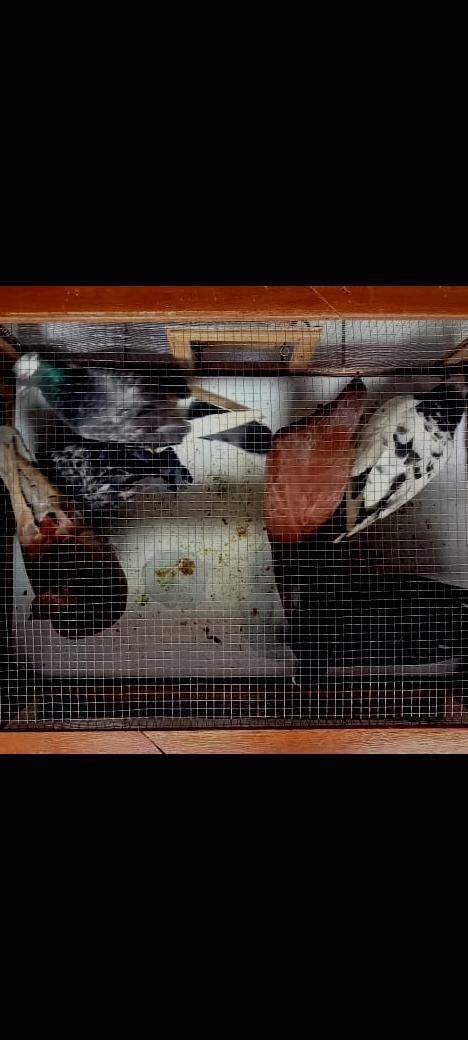Merpati: (312, 362, 468, 577), (9, 349, 270, 455), (0, 426, 126, 639), (262, 372, 366, 620), (287, 573, 468, 686), (38, 440, 191, 517)
